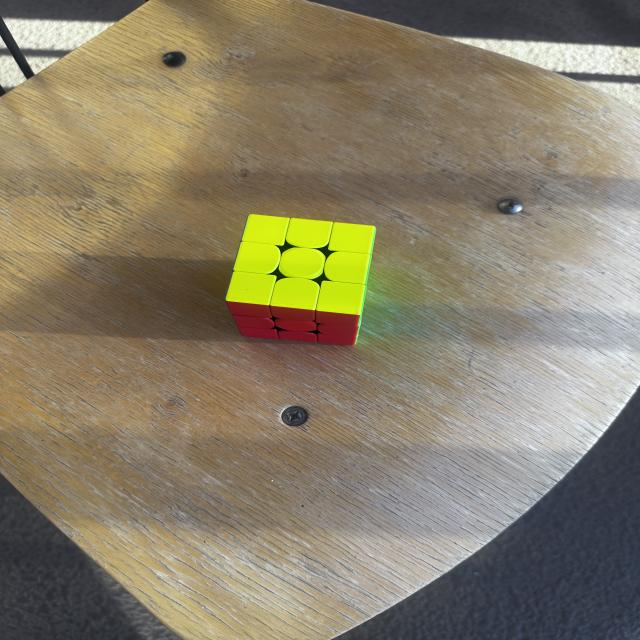sticker: (226, 271, 279, 318), (270, 276, 322, 323), (315, 280, 367, 325), (321, 250, 372, 286), (232, 242, 283, 276), (241, 213, 291, 247), (277, 246, 327, 280), (328, 222, 377, 254), (285, 217, 333, 249), (315, 322, 360, 346), (232, 314, 274, 330), (274, 318, 317, 332), (238, 325, 278, 339), (275, 329, 317, 342)
